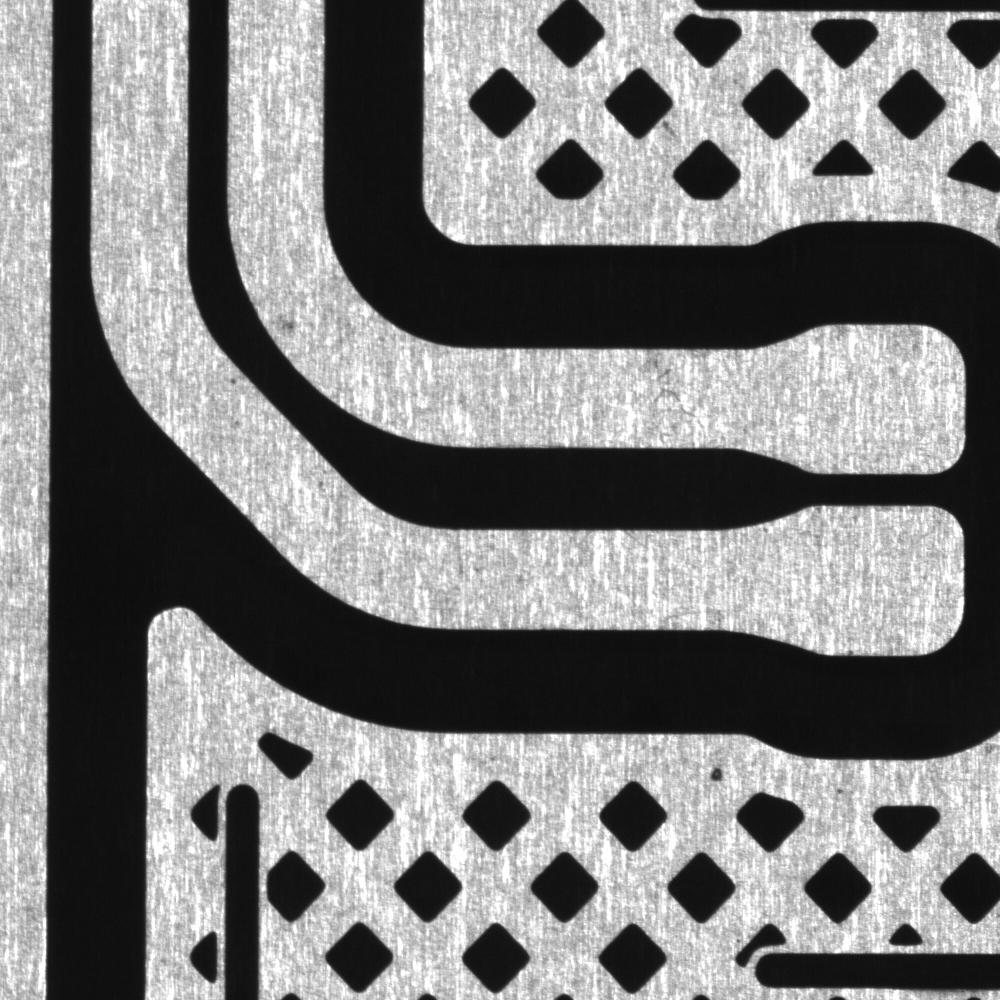Discolor: (639, 383, 711, 445)
Etching: (269, 301, 310, 342)
Pinhole: (219, 369, 245, 391)
